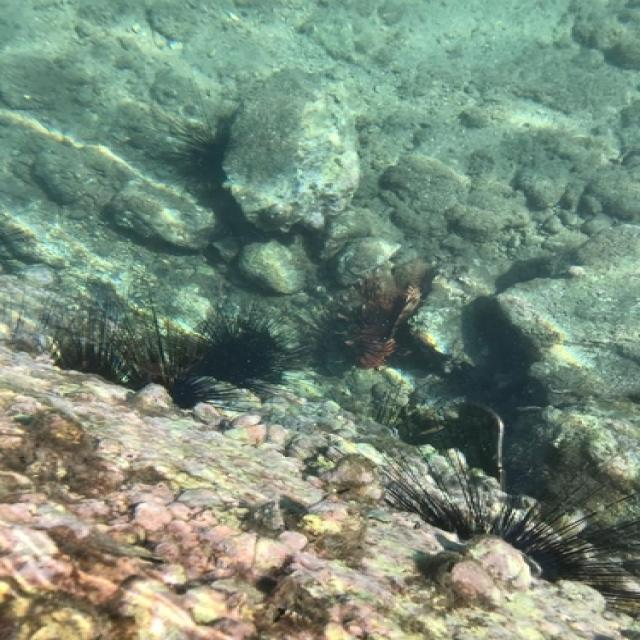Aslan Baligi: (329, 262, 430, 385)
